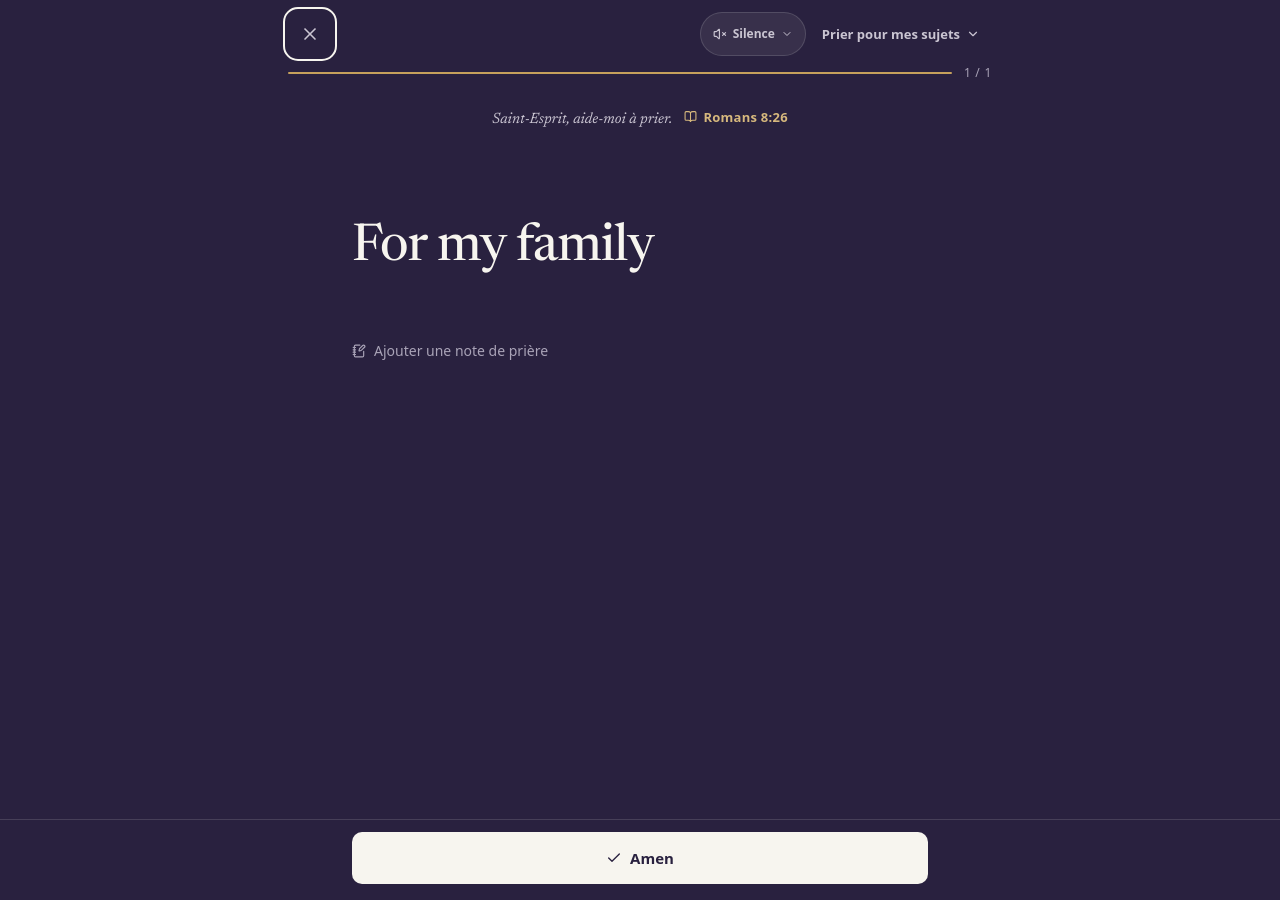
the composer › keeps formatting behind one Aa control and collapses it with the composer
Click the button "Ajouter une note de prière": (450, 351) x1=352 y1=329 x2=548 y2=373
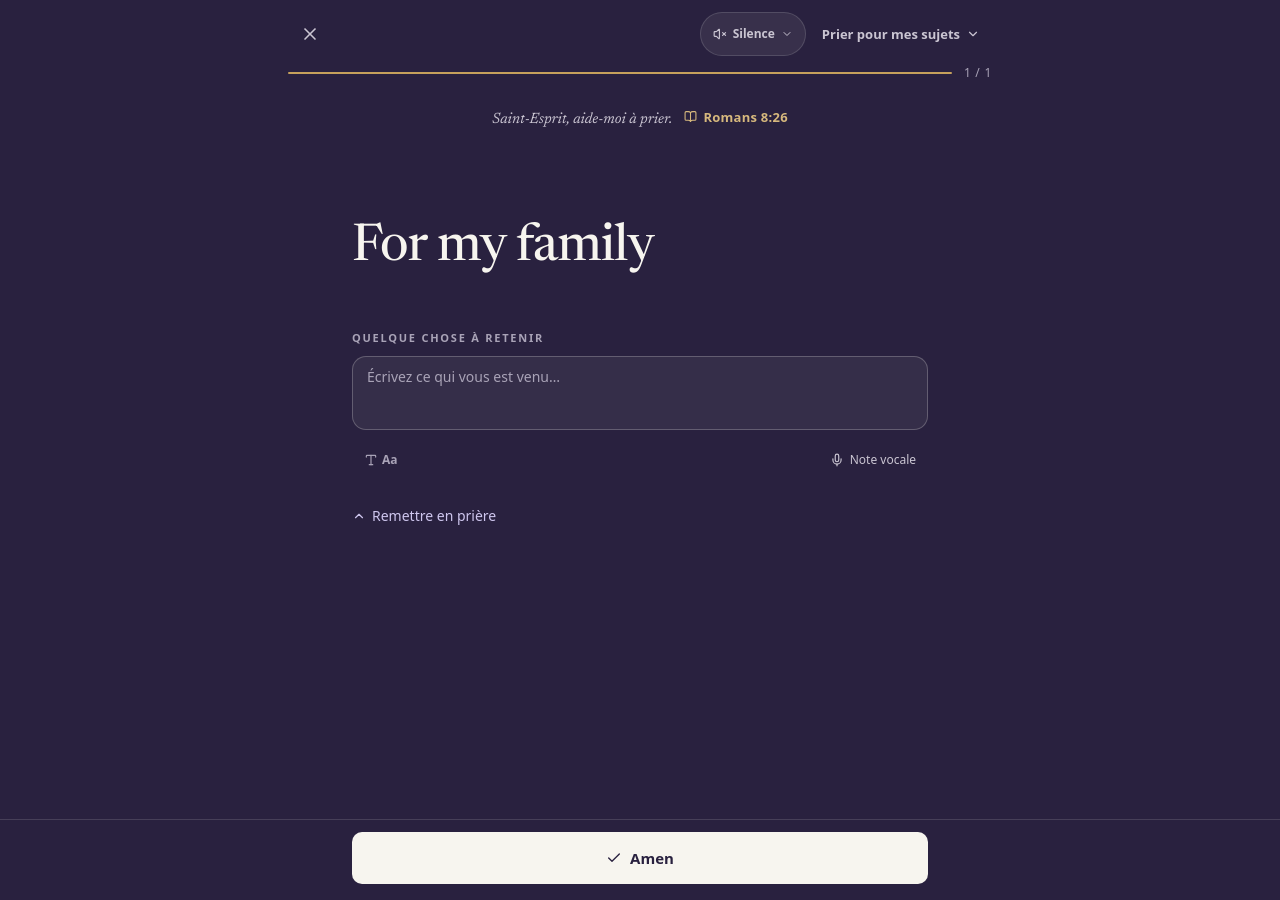
Click the button with aria-label "Mise en forme": (381, 460) x1=352 y1=438 x2=410 y2=482
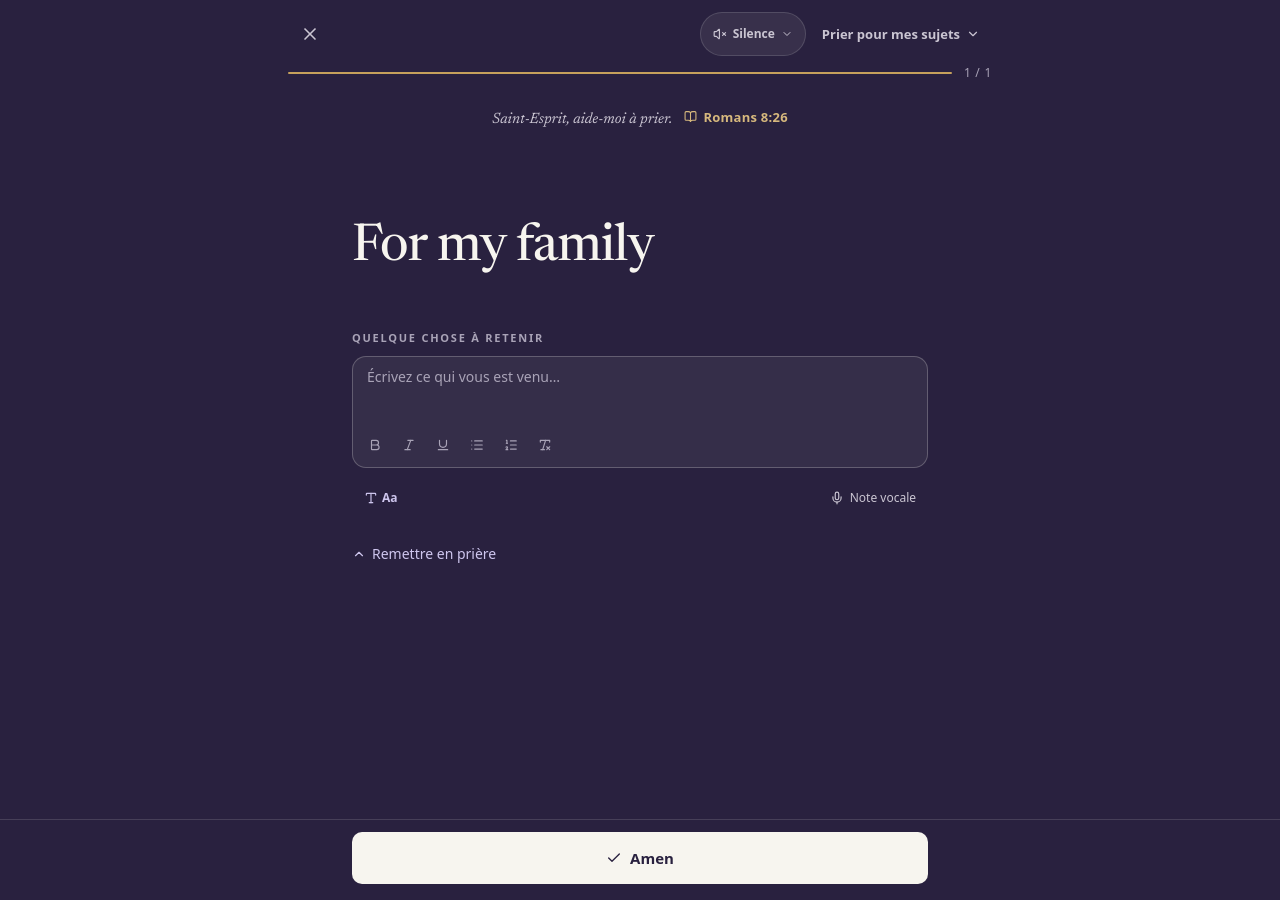
Expected: the button named "Gras" is shown, x1=359 y1=429 x2=391 y2=461
Expected: the button named "Liste numérotée" is shown, x1=495 y1=429 x2=527 y2=461
Click the button "Remettre en prière": (424, 554) x1=352 y1=532 x2=496 y2=576
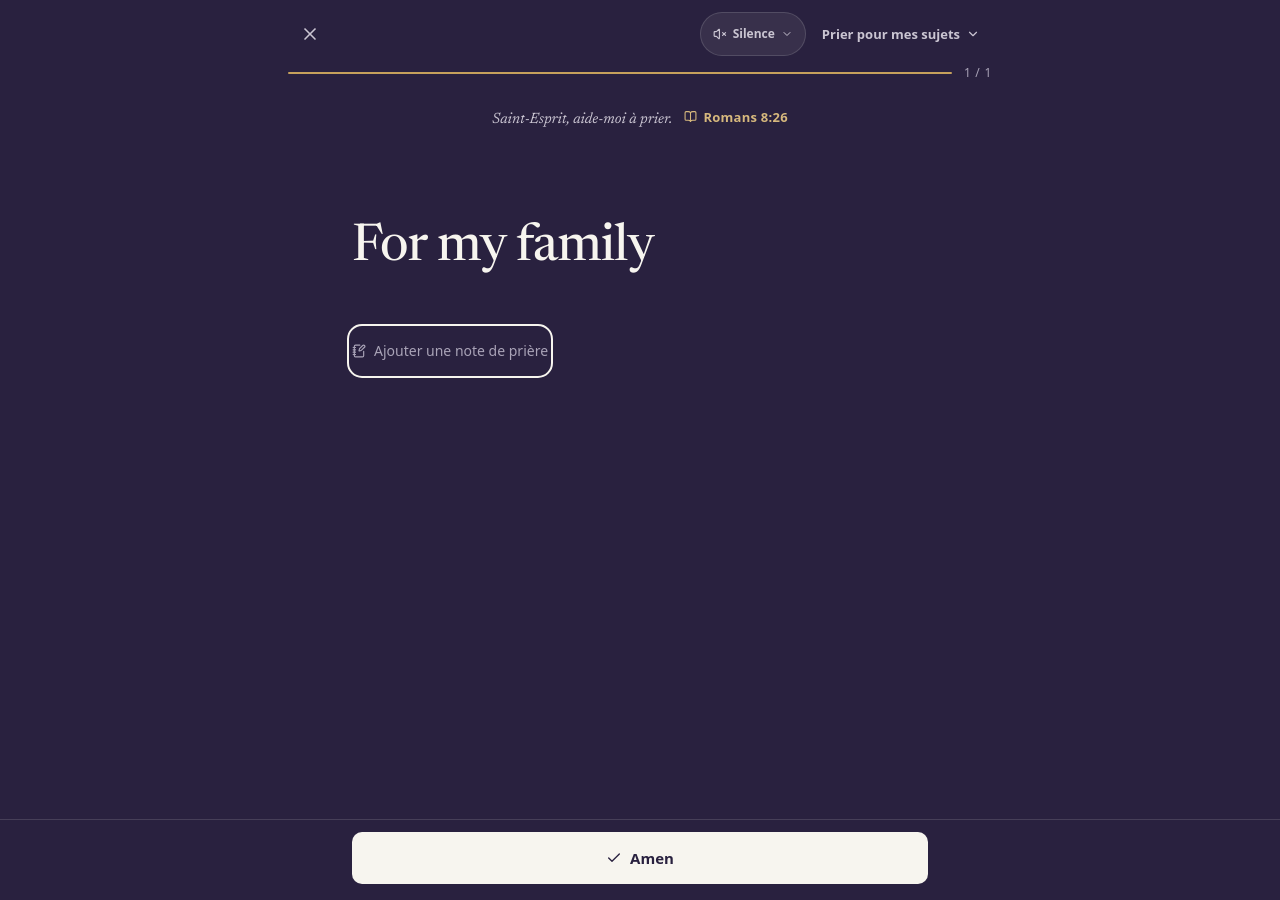
Expected: the button "Gras" is gone
